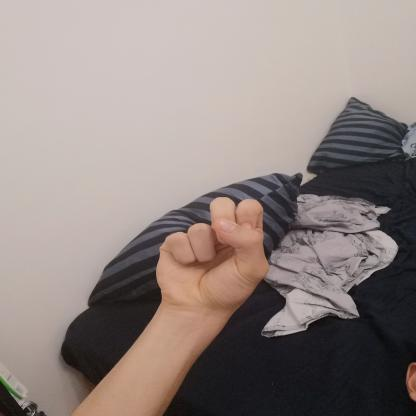QAAF: (141, 190, 283, 326)
